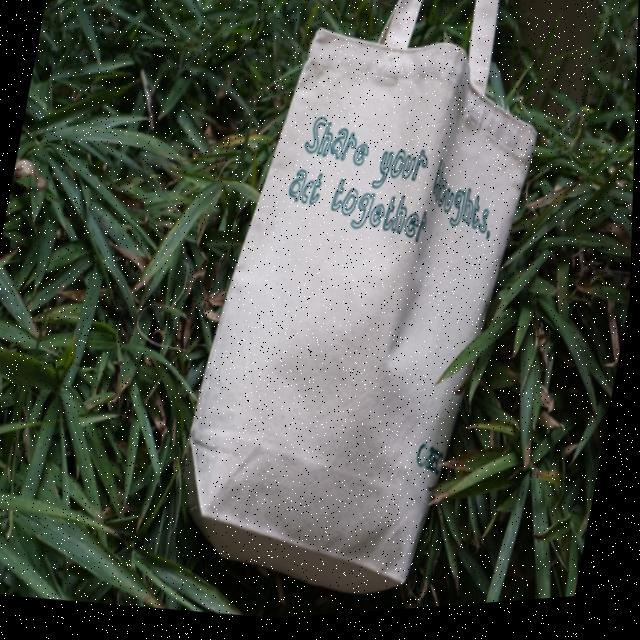ecobag: (158, 0, 574, 630)
